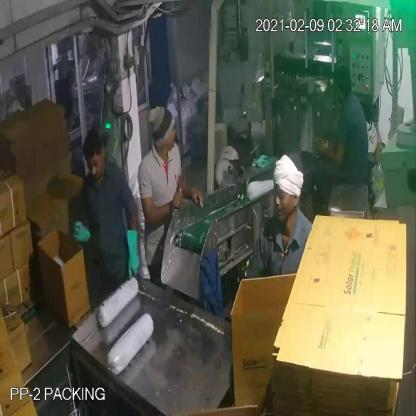glove: (119, 214, 145, 289), (63, 209, 92, 249)
no_glove: (141, 190, 187, 227), (172, 168, 208, 212), (312, 134, 346, 179)
